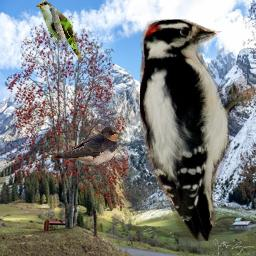Cuckoo: (34, 0, 85, 61)
Swallow: (54, 125, 122, 169)
Woodpecker: (140, 19, 255, 241)
